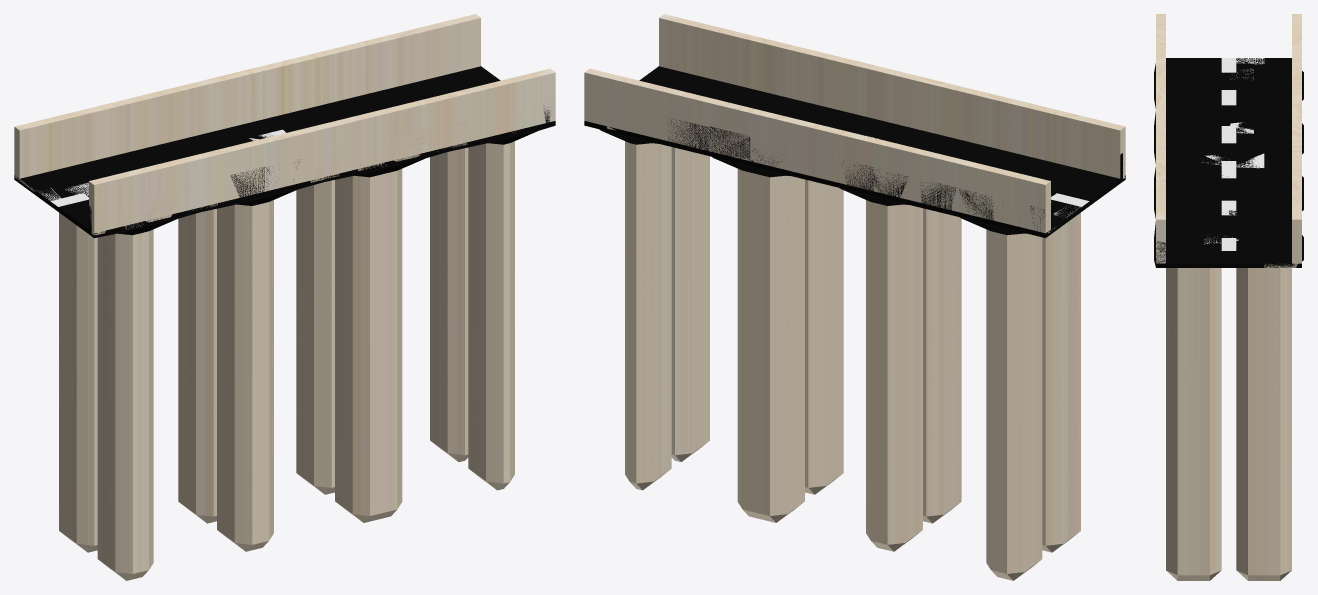
Rendered from Bridge C.F2.fbx.
The picture shows the model from 3 angles, left to right: view 1: azimuth 30°, elevation 25°; view 2: azimuth 150°, elevation 25°; view 3: azimuth 270°, elevation 25°; orthographic projection. The views are drawn at different scales.
Visible parts, largest first — view 1: road, road_cell.262, road_cell.139, road_cell.064, road_cell.038, road_cell.040, road_cell.055, road_cell.103, road_cell.235, road_cell.107, road_cell.194, road_cell.011 (+29 smaller); view 2: road, road_cell.253, road_cell.047, road_cell.145, road_cell.028, road_cell.139, road_cell.040, road_cell.035, road_cell.215, road_cell.007, road_cell.053, road_cell.150 (+36 smaller); view 3: road, road_cell.130, road_cell.179, road_cell.177, road_cell.193, road_cell.122, road_cell.159, road_cell.163, road_cell.226, road_cell.148, road_cell.240, road_cell.212 (+14 smaller).
Boxes of the visible parts, bbox=[...] form: road: bbox=[14, 18, 555, 580]; road_cell.262: bbox=[59, 362, 71, 540]; road_cell.139: bbox=[430, 274, 442, 447]; road_cell.064: bbox=[106, 396, 119, 575]; road_cell.038: bbox=[226, 367, 240, 547]; road_cell.040: bbox=[217, 361, 226, 537]; road_cell.055: bbox=[165, 148, 210, 345]; road_cell.103: bbox=[260, 196, 278, 372]; road_cell.235: bbox=[310, 45, 356, 82]; road_cell.107: bbox=[187, 342, 196, 515]; road_cell.194: bbox=[146, 158, 206, 196]; road_cell.011: bbox=[243, 196, 266, 375]; road: bbox=[584, 14, 1125, 575]; road_cell.253: bbox=[756, 342, 792, 522]; road_cell.047: bbox=[747, 160, 778, 346]; road_cell.145: bbox=[871, 372, 896, 551]; road_cell.028: bbox=[991, 401, 1015, 577]; road_cell.139: bbox=[642, 303, 666, 485]; road_cell.040: bbox=[927, 339, 952, 518]; road_cell.035: bbox=[861, 193, 886, 374]; road_cell.215: bbox=[682, 278, 701, 459]; road_cell.007: bbox=[816, 310, 834, 490]; road_cell.053: bbox=[740, 336, 761, 519]; road_cell.150: bbox=[1047, 374, 1063, 547]; road: bbox=[1154, 14, 1303, 580]; road_cell.130: bbox=[1177, 420, 1203, 577]; road_cell.179: bbox=[1203, 416, 1221, 574]; road_cell.177: bbox=[1248, 419, 1264, 577]; road_cell.193: bbox=[1264, 418, 1286, 578]; road_cell.122: bbox=[1171, 244, 1193, 420]; road_cell.159: bbox=[1254, 244, 1285, 420]; road_cell.163: bbox=[1283, 416, 1291, 576]; road_cell.226: bbox=[1282, 242, 1291, 417]; road_cell.148: bbox=[1193, 244, 1215, 421]; road_cell.240: bbox=[1264, 208, 1291, 227]; road_cell.212: bbox=[1229, 209, 1263, 224].
Bounding box in the file's own units: 2000 × 1720 × 616.
